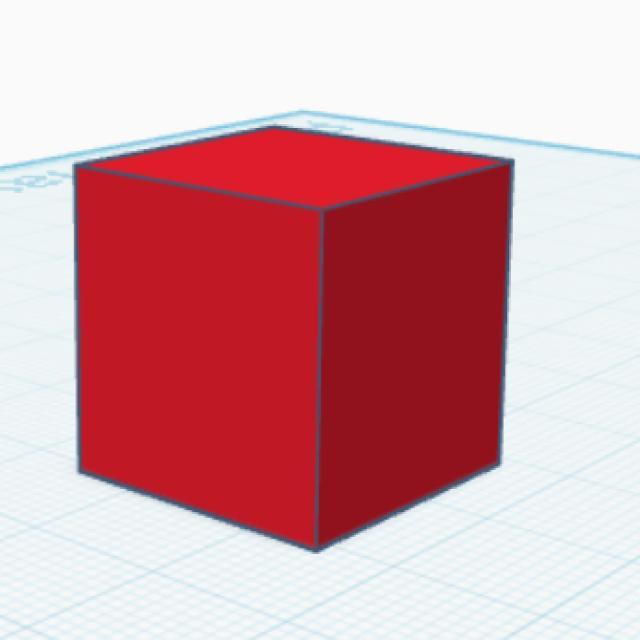cube: (69, 121, 518, 558)
